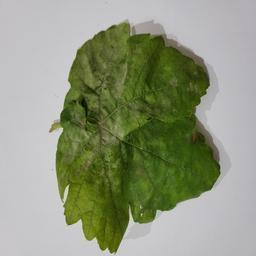Powdery-Mildew: (98, 74, 134, 139), (83, 42, 124, 81), (61, 128, 90, 165), (164, 75, 181, 91), (97, 139, 113, 156)
